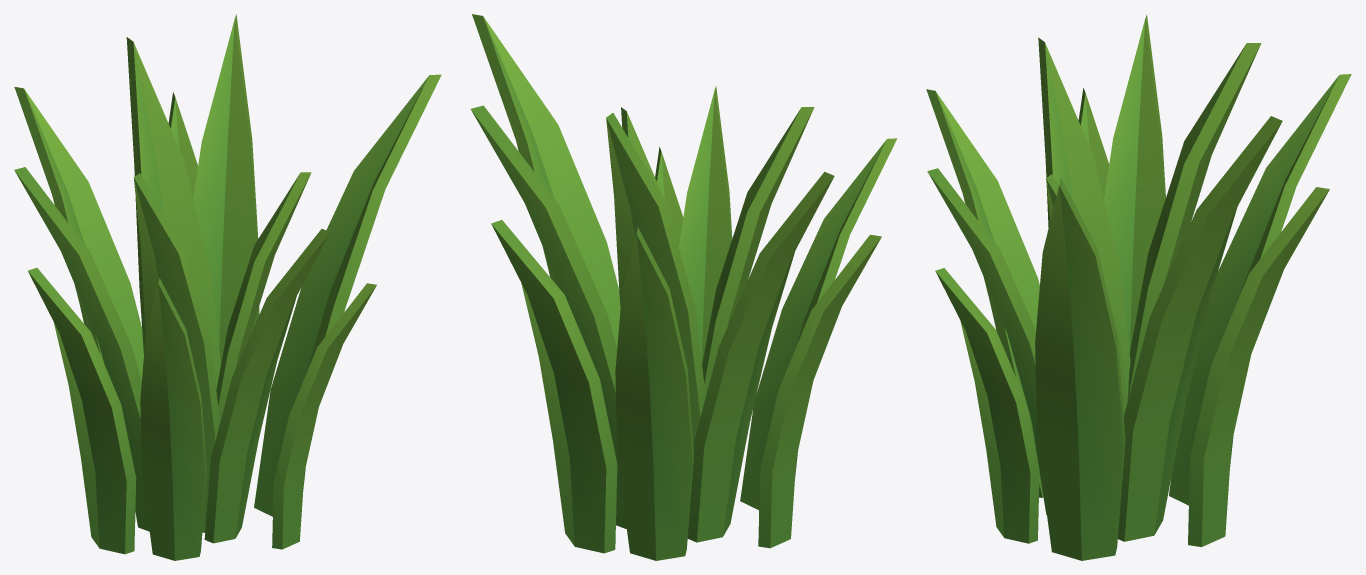
Rendered from Grass_2_C_Color1.glb.
The picture shows the model from 3 angles, left to right: view 1: azimuth 30°, elevation 25°; view 2: azimuth 150°, elevation 25°; view 3: azimuth 270°, elevation 25°; orthographic projection. The views are drawn at different scales.
Visible parts, largest first — view 1: Grass_2_C_Color1; view 2: Grass_2_C_Color1; view 3: Grass_2_C_Color1.
Boxes of the visible parts, bbox=[...] form: Grass_2_C_Color1: bbox=[14, 14, 441, 560]; Grass_2_C_Color1: bbox=[470, 14, 897, 560]; Grass_2_C_Color1: bbox=[926, 14, 1351, 560].
Size of the model in its own units: 0.8965 by 0.9352 by 0.7575.
Materials: 1 (1 with a texture image).
